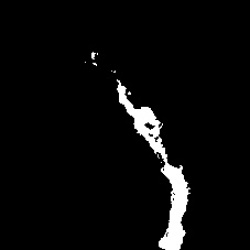crack: (114, 71, 190, 249)
pinhole: (91, 50, 99, 70)
